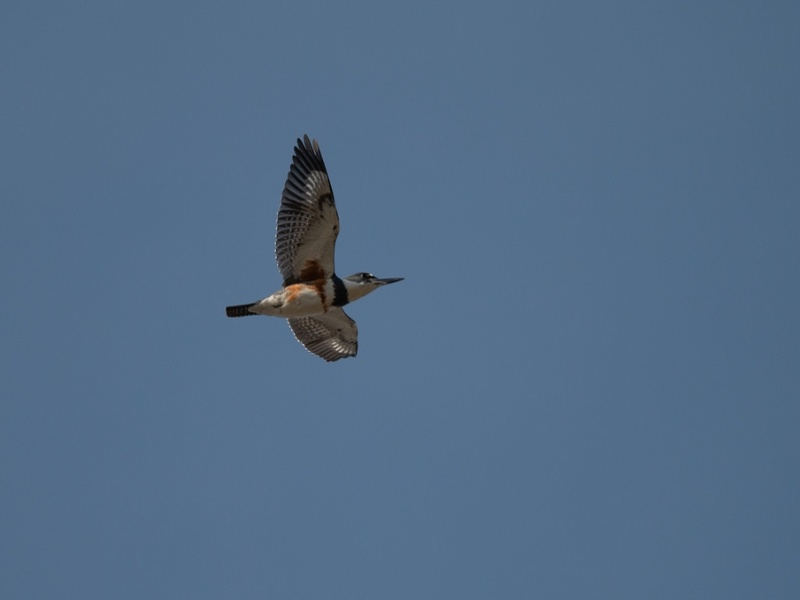kingfisher: (220, 132, 406, 364)
